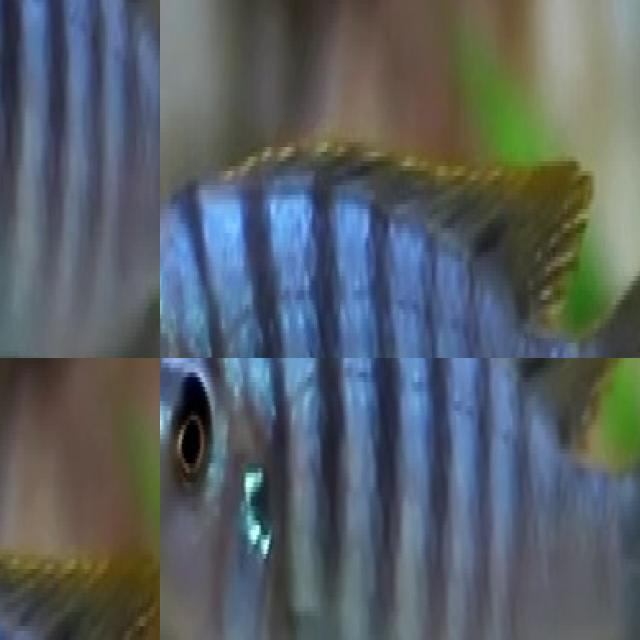fish: (160, 46, 640, 358), (160, 358, 640, 640), (0, 0, 160, 358)
